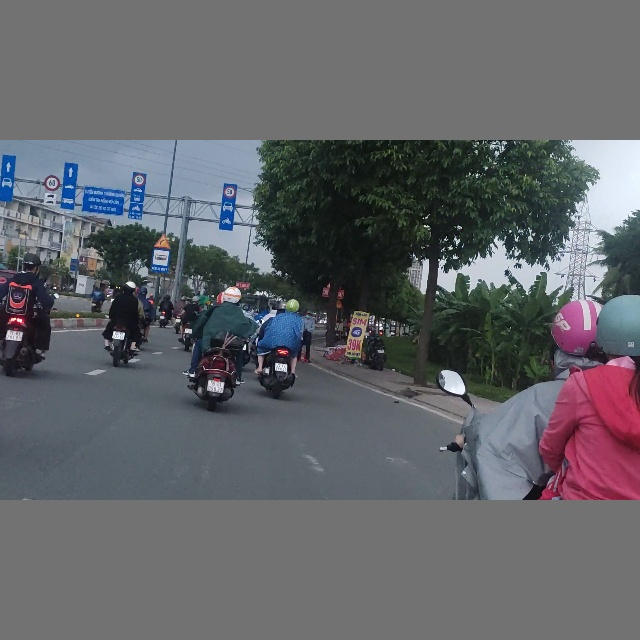I.434a: (151, 248, 170, 273)
P.127*50: (223, 186, 236, 198), (133, 173, 145, 186)
P.127*60: (44, 175, 60, 191)
S.505a*Xe tai va cong: (44, 193, 56, 206)
W.201b: (153, 234, 171, 249)
